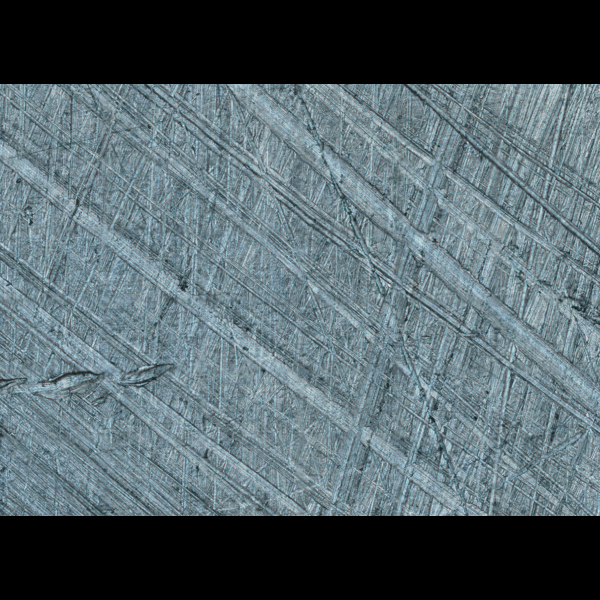d: (0, 352, 181, 413)
